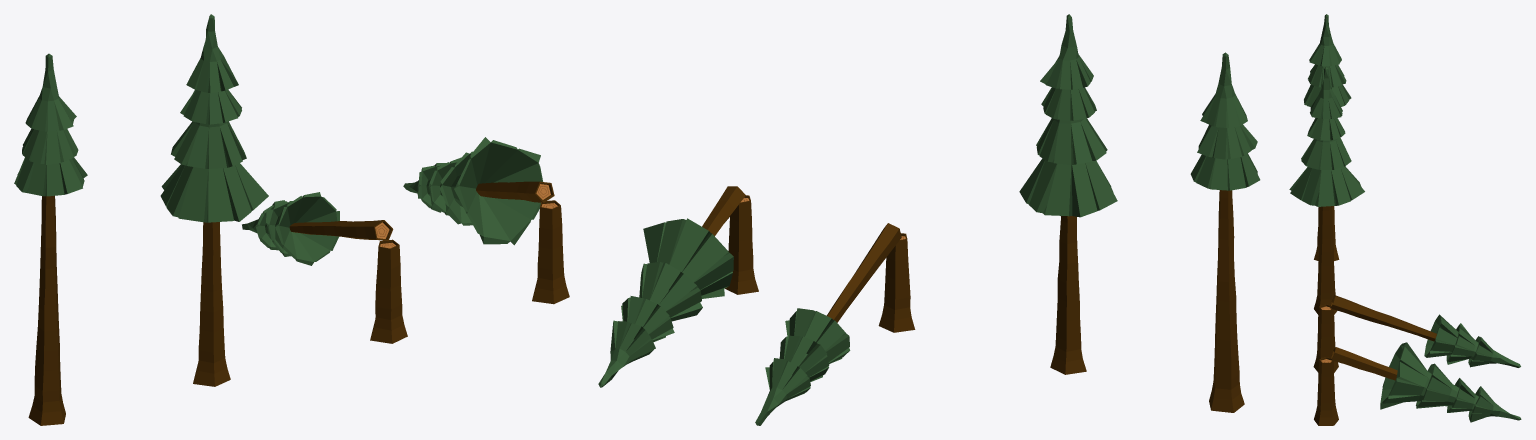
The model's file is ялинкиLOD.fbx.
The picture shows the model from 3 angles, left to right: view 1: azimuth 30°, elevation 25°; view 2: azimuth 150°, elevation 25°; view 3: azimuth 270°, elevation 25°; orthographic projection. The views are drawn at different scales.
Visible parts, largest first — view 1: Цилиндр.037, Цилиндр.036, Цилиндр.039, Цилиндр.035; view 2: Цилиндр.037, Цилиндр.036, Цилиндр.039, Цилиндр.035; view 3: Цилиндр.036, Цилиндр.037, Цилиндр.035, Цилиндр.039.
Boxes of the visible parts, left/top/right/bottom form: Цилиндр.037: left=160, top=14, right=268, bottom=386; Цилиндр.036: left=403, top=137, right=569, bottom=304; Цилиндр.039: left=14, top=53, right=87, bottom=425; Цилиндр.035: left=242, top=192, right=407, bottom=343; Цилиндр.037: left=1019, top=14, right=1117, bottom=374; Цилиндр.036: left=598, top=186, right=758, bottom=387; Цилиндр.039: left=1190, top=52, right=1260, bottom=412; Цилиндр.035: left=755, top=223, right=915, bottom=425; Цилиндр.036: left=1314, top=342, right=1521, bottom=425; Цилиндр.037: left=1289, top=67, right=1364, bottom=314; Цилиндр.035: left=1313, top=295, right=1520, bottom=372; Цилиндр.039: left=1304, top=14, right=1351, bottom=260.
Size of the model in its own units: 2599 by 1568 by 1351.
